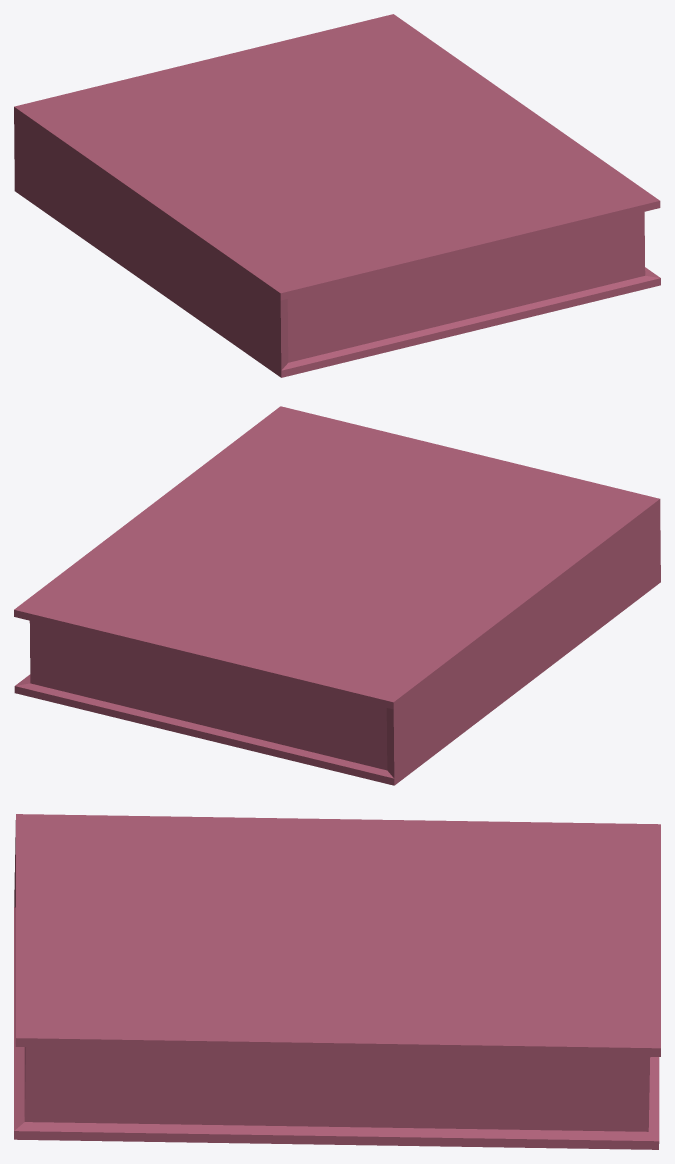
Rendered from book_M.fbx.
The picture shows the model from 3 angles, top to bottom: view 1: azimuth 30°, elevation 25°; view 2: azimuth 150°, elevation 25°; view 3: azimuth 270°, elevation 25°; orthographic projection. The views are drawn at different scales.
Visible parts, largest first — view 1: book_m; view 2: book_m; view 3: book_m.
Boxes of the visible parts, box(x1,y1,x2,y2) form: book_m: box(14, 14, 660, 377); book_m: box(14, 406, 660, 785); book_m: box(14, 814, 660, 1149).
Size of the model in its own units: 20.52 by 4.77 by 25.04.
